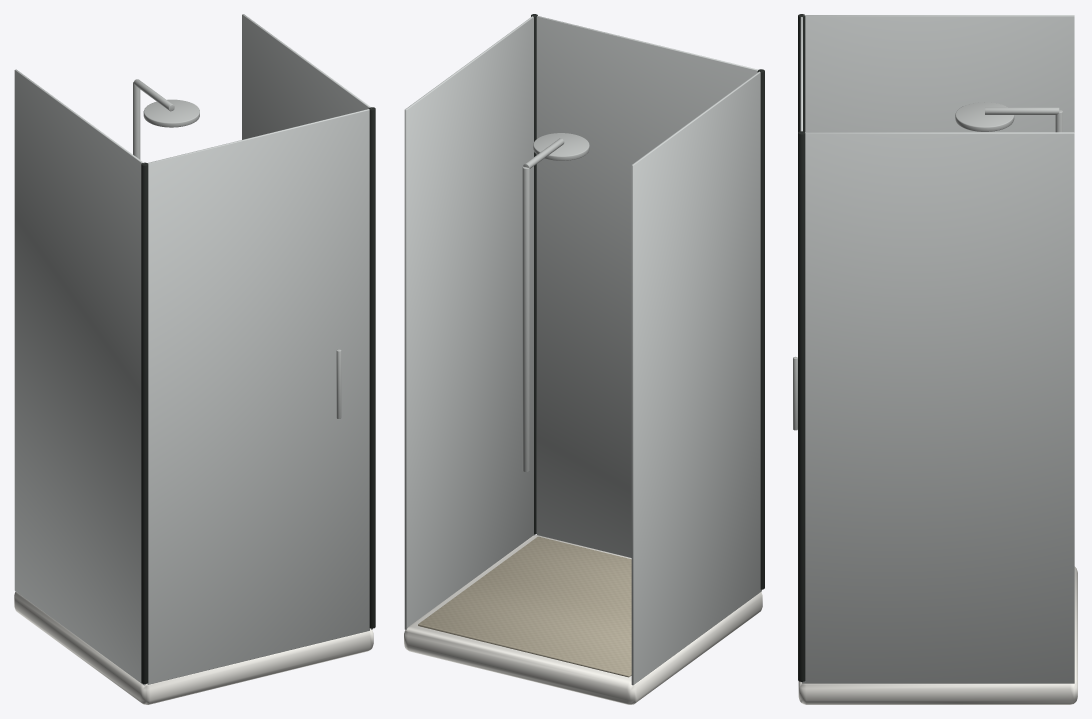
Rendered from shower.glb.
3 renders of one model, left to right at view 1: azimuth 30°, elevation 25°; view 2: azimuth 150°, elevation 25°; view 3: azimuth 270°, elevation 25°, orthographic. The views are drawn at different scales.
Visible parts, largest first — view 1: shower-mesh; view 2: shower-mesh; view 3: shower-mesh.
Part boxes in pixels (x1,y1,x2,y2): shower-mesh: (14,14,375,704); shower-mesh: (404,14,764,704); shower-mesh: (793,14,1077,704).
Size of the model in its own units: 0.9 by 2 by 0.9.
Materials: 5 (1 with a texture image).
